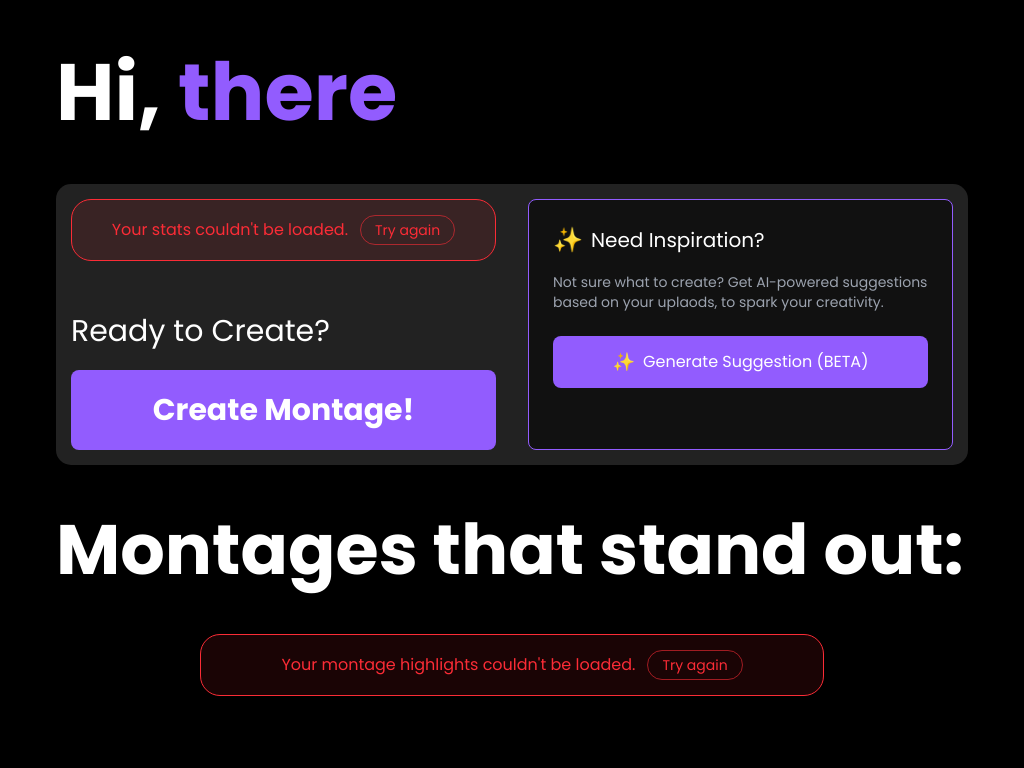
Test: Dashboard › shows errors, not made-up numbers, when the dashboard can't load
The width and height of the screenshot is (1024, 768).
Check: the text "Your stats couldn't be loaded." is shown, box [112,218,348,242]
Check: the text "Total Videos" is not shown
Click the button "Try again" next to "Your stats couldn't be loaded." at coordinates (408, 230), box [360,215,455,245]
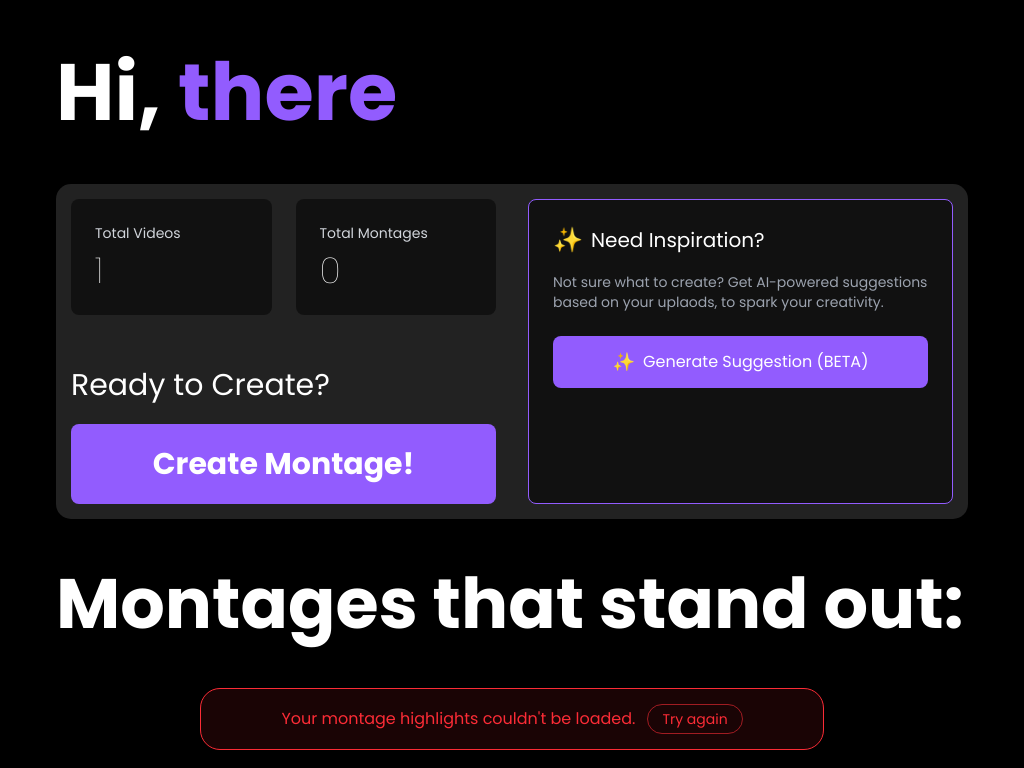
Check: the text "Total Videos" is shown, box [95,223,181,243]
